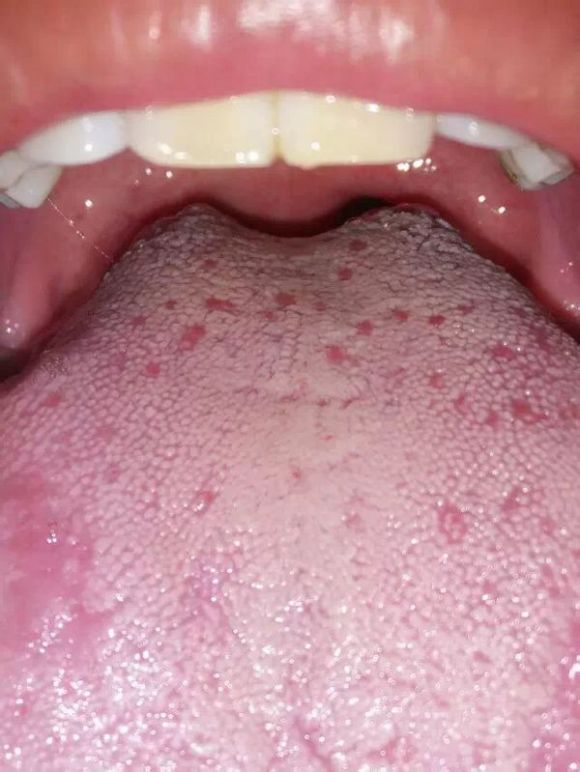baitaishe: (1, 200, 580, 772)
hongdianshe: (319, 338, 347, 370), (422, 309, 448, 334), (269, 287, 296, 311), (351, 313, 375, 338), (332, 262, 355, 287), (387, 302, 409, 327), (157, 293, 178, 312), (199, 255, 217, 273)
shenquao: (196, 201, 416, 268)
